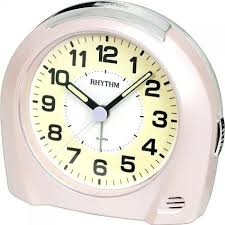alarm_clock: (0, 0, 222, 222), (0, 5, 222, 222), (10, 5, 222, 222)
